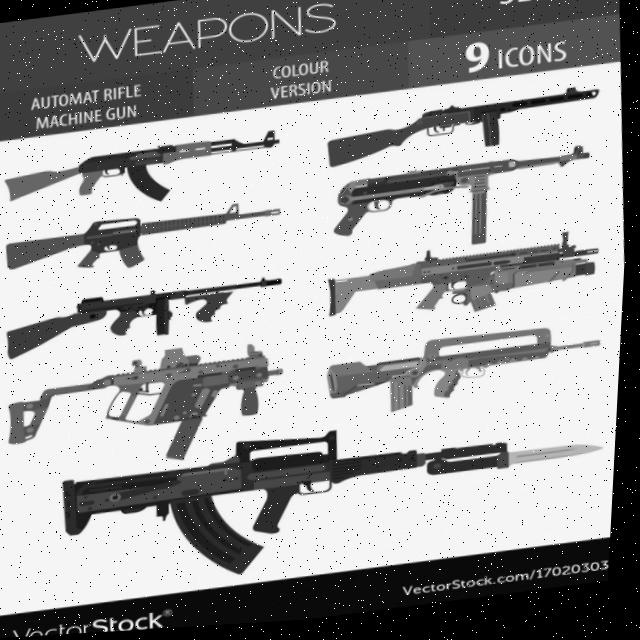firearm: (60, 414, 524, 596), (6, 336, 295, 480), (330, 149, 598, 266), (329, 324, 608, 423), (325, 237, 604, 333), (5, 125, 284, 219), (6, 276, 292, 360), (322, 87, 601, 173), (6, 198, 285, 280)
knife: (429, 443, 612, 486)
